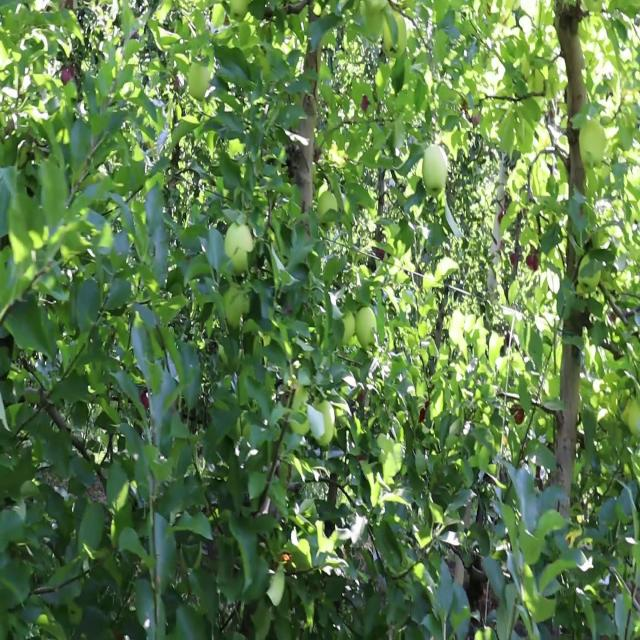apple: (225, 219, 255, 275), (422, 142, 448, 196), (310, 400, 336, 446), (580, 120, 606, 165), (383, 11, 407, 58), (356, 306, 378, 350), (188, 60, 210, 101), (225, 289, 247, 325), (317, 192, 337, 230), (228, 0, 249, 24), (341, 311, 355, 342)
